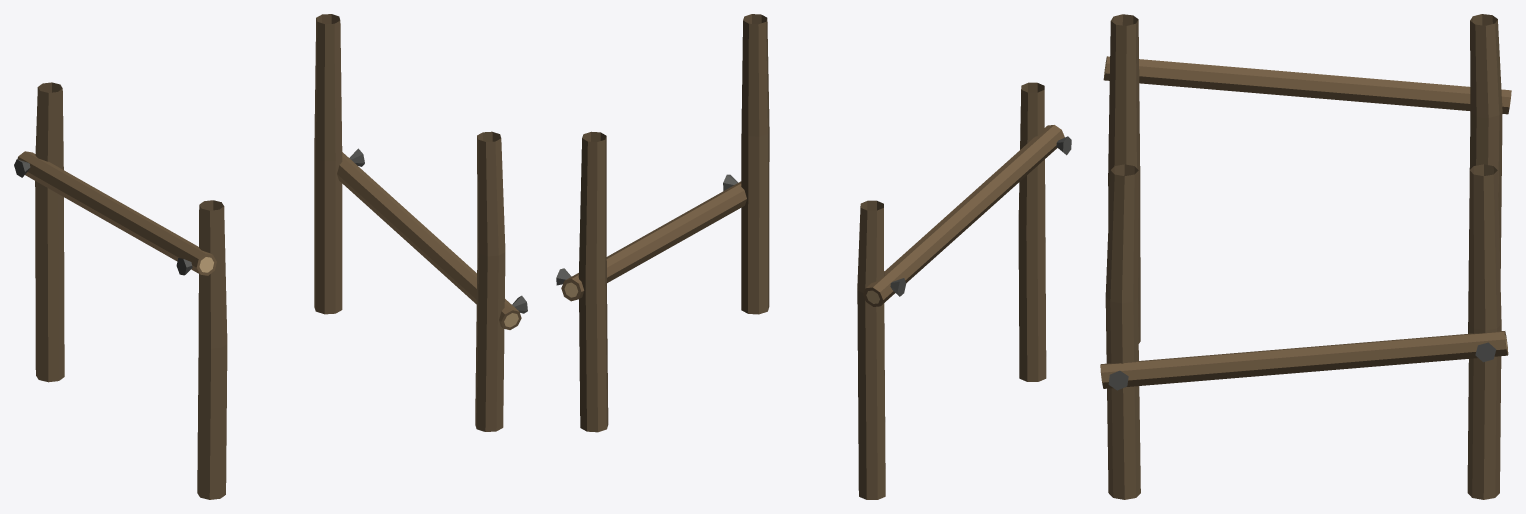
Rendered from rpgpp_ag_gate_balcony_03_support_01.fbx.
The picture shows the model from 3 angles, left to right: view 1: azimuth 30°, elevation 25°; view 2: azimuth 150°, elevation 25°; view 3: azimuth 270°, elevation 25°; orthographic projection. The views are drawn at different scales.
Visible parts, largest first — view 1: rpgpp_ag_gate_balcony_03_support_01; view 2: rpgpp_ag_gate_balcony_03_support_01; view 3: rpgpp_ag_gate_balcony_03_support_01.
Boxes of the visible parts, x1,y1,x2,y2 form: rpgpp_ag_gate_balcony_03_support_01: (14,14,527,499); rpgpp_ag_gate_balcony_03_support_01: (556,14,1071,499); rpgpp_ag_gate_balcony_03_support_01: (1100,14,1511,499).
Size of the model in its own units: 4.82 by 3.87 by 4.47.
